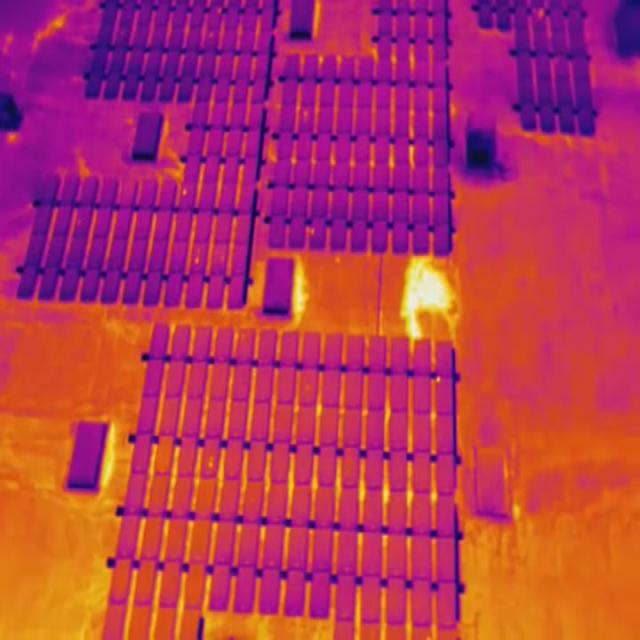Orange-Spots: (208, 456, 214, 468), (304, 111, 308, 121), (182, 189, 187, 196), (195, 256, 199, 264), (311, 228, 315, 235), (436, 377, 441, 382), (209, 32, 213, 38)
